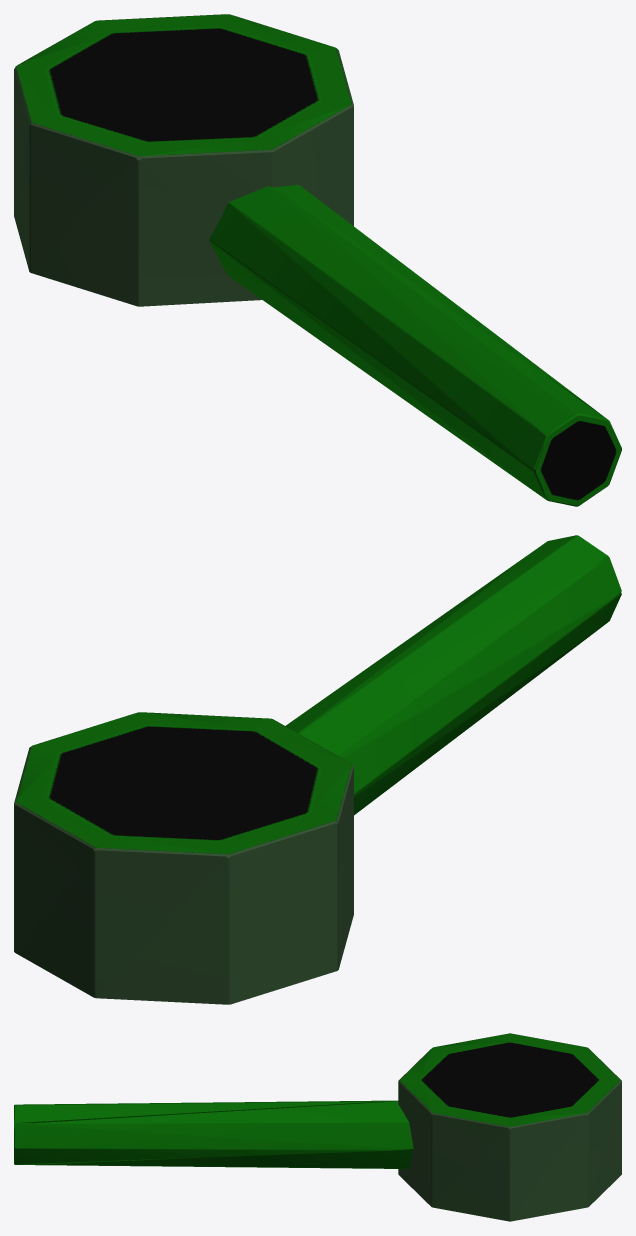
File: sensya_Type2_head.obj
3 renders of one model, top to bottom at view 1: azimuth 30°, elevation 25°; view 2: azimuth 150°, elevation 25°; view 3: azimuth 270°, elevation 25°, orthographic. The views are drawn at different scales.
Parts seen in each view (by area): view 1: pasted__houtou sensha_houtou; view 2: pasted__houtou sensha_houtou; view 3: pasted__houtou sensha_houtou.
Boxes of the visible parts, x1=… form: pasted__houtou sensha_houtou: x1=14, y1=14, x2=621, y2=506; pasted__houtou sensha_houtou: x1=14, y1=535, x2=621, y2=1004; pasted__houtou sensha_houtou: x1=14, y1=1033, x2=621, y2=1221.
Bounding box in the file's own units: 0.8224 × 0.3817 × 2.24.
1 material, 1 textured.
